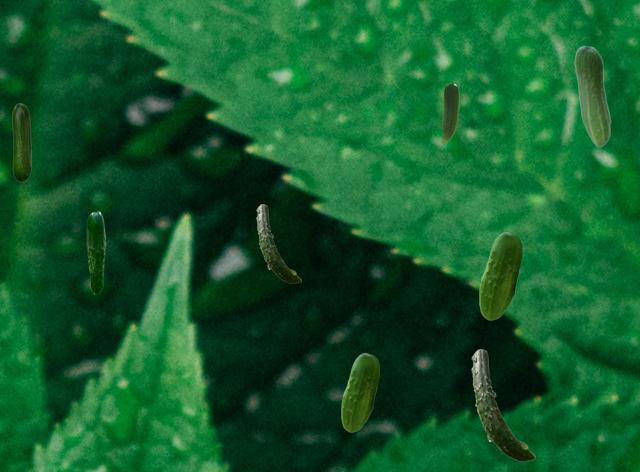cucumber: (471, 349, 534, 460), (479, 232, 521, 319), (574, 45, 610, 146), (256, 204, 300, 282), (341, 353, 378, 431), (86, 211, 105, 293), (12, 103, 30, 181), (442, 83, 458, 142)
